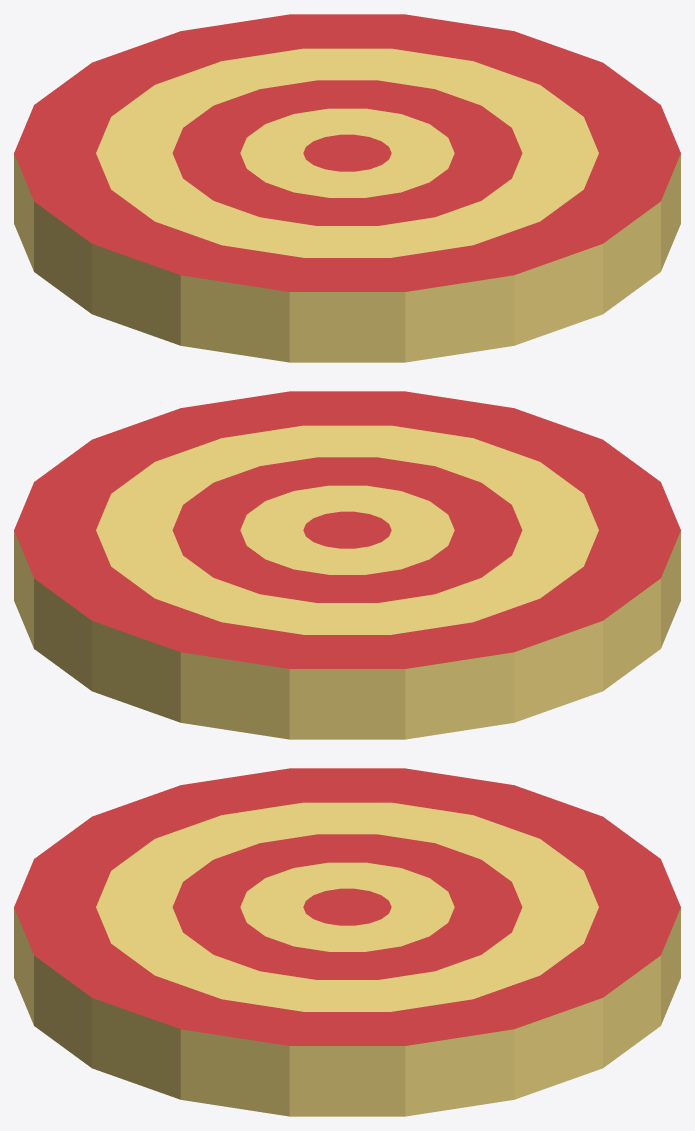
The model's file is Targetpiece.fbx.
3 renders of one model, top to bottom at view 1: azimuth 30°, elevation 25°; view 2: azimuth 150°, elevation 25°; view 3: azimuth 270°, elevation 25°, orthographic.
Parts seen in each view (by area): view 1: Zielscheibenscheibe; view 2: Zielscheibenscheibe; view 3: Zielscheibenscheibe.
Boxes of the visible parts, x1=… form: Zielscheibenscheibe: x1=14, y1=14, x2=680, y2=362; Zielscheibenscheibe: x1=14, y1=391, x2=680, y2=739; Zielscheibenscheibe: x1=14, y1=768, x2=680, y2=1116.
Bounding box in the file's own units: 220 × 26.06 × 223.
